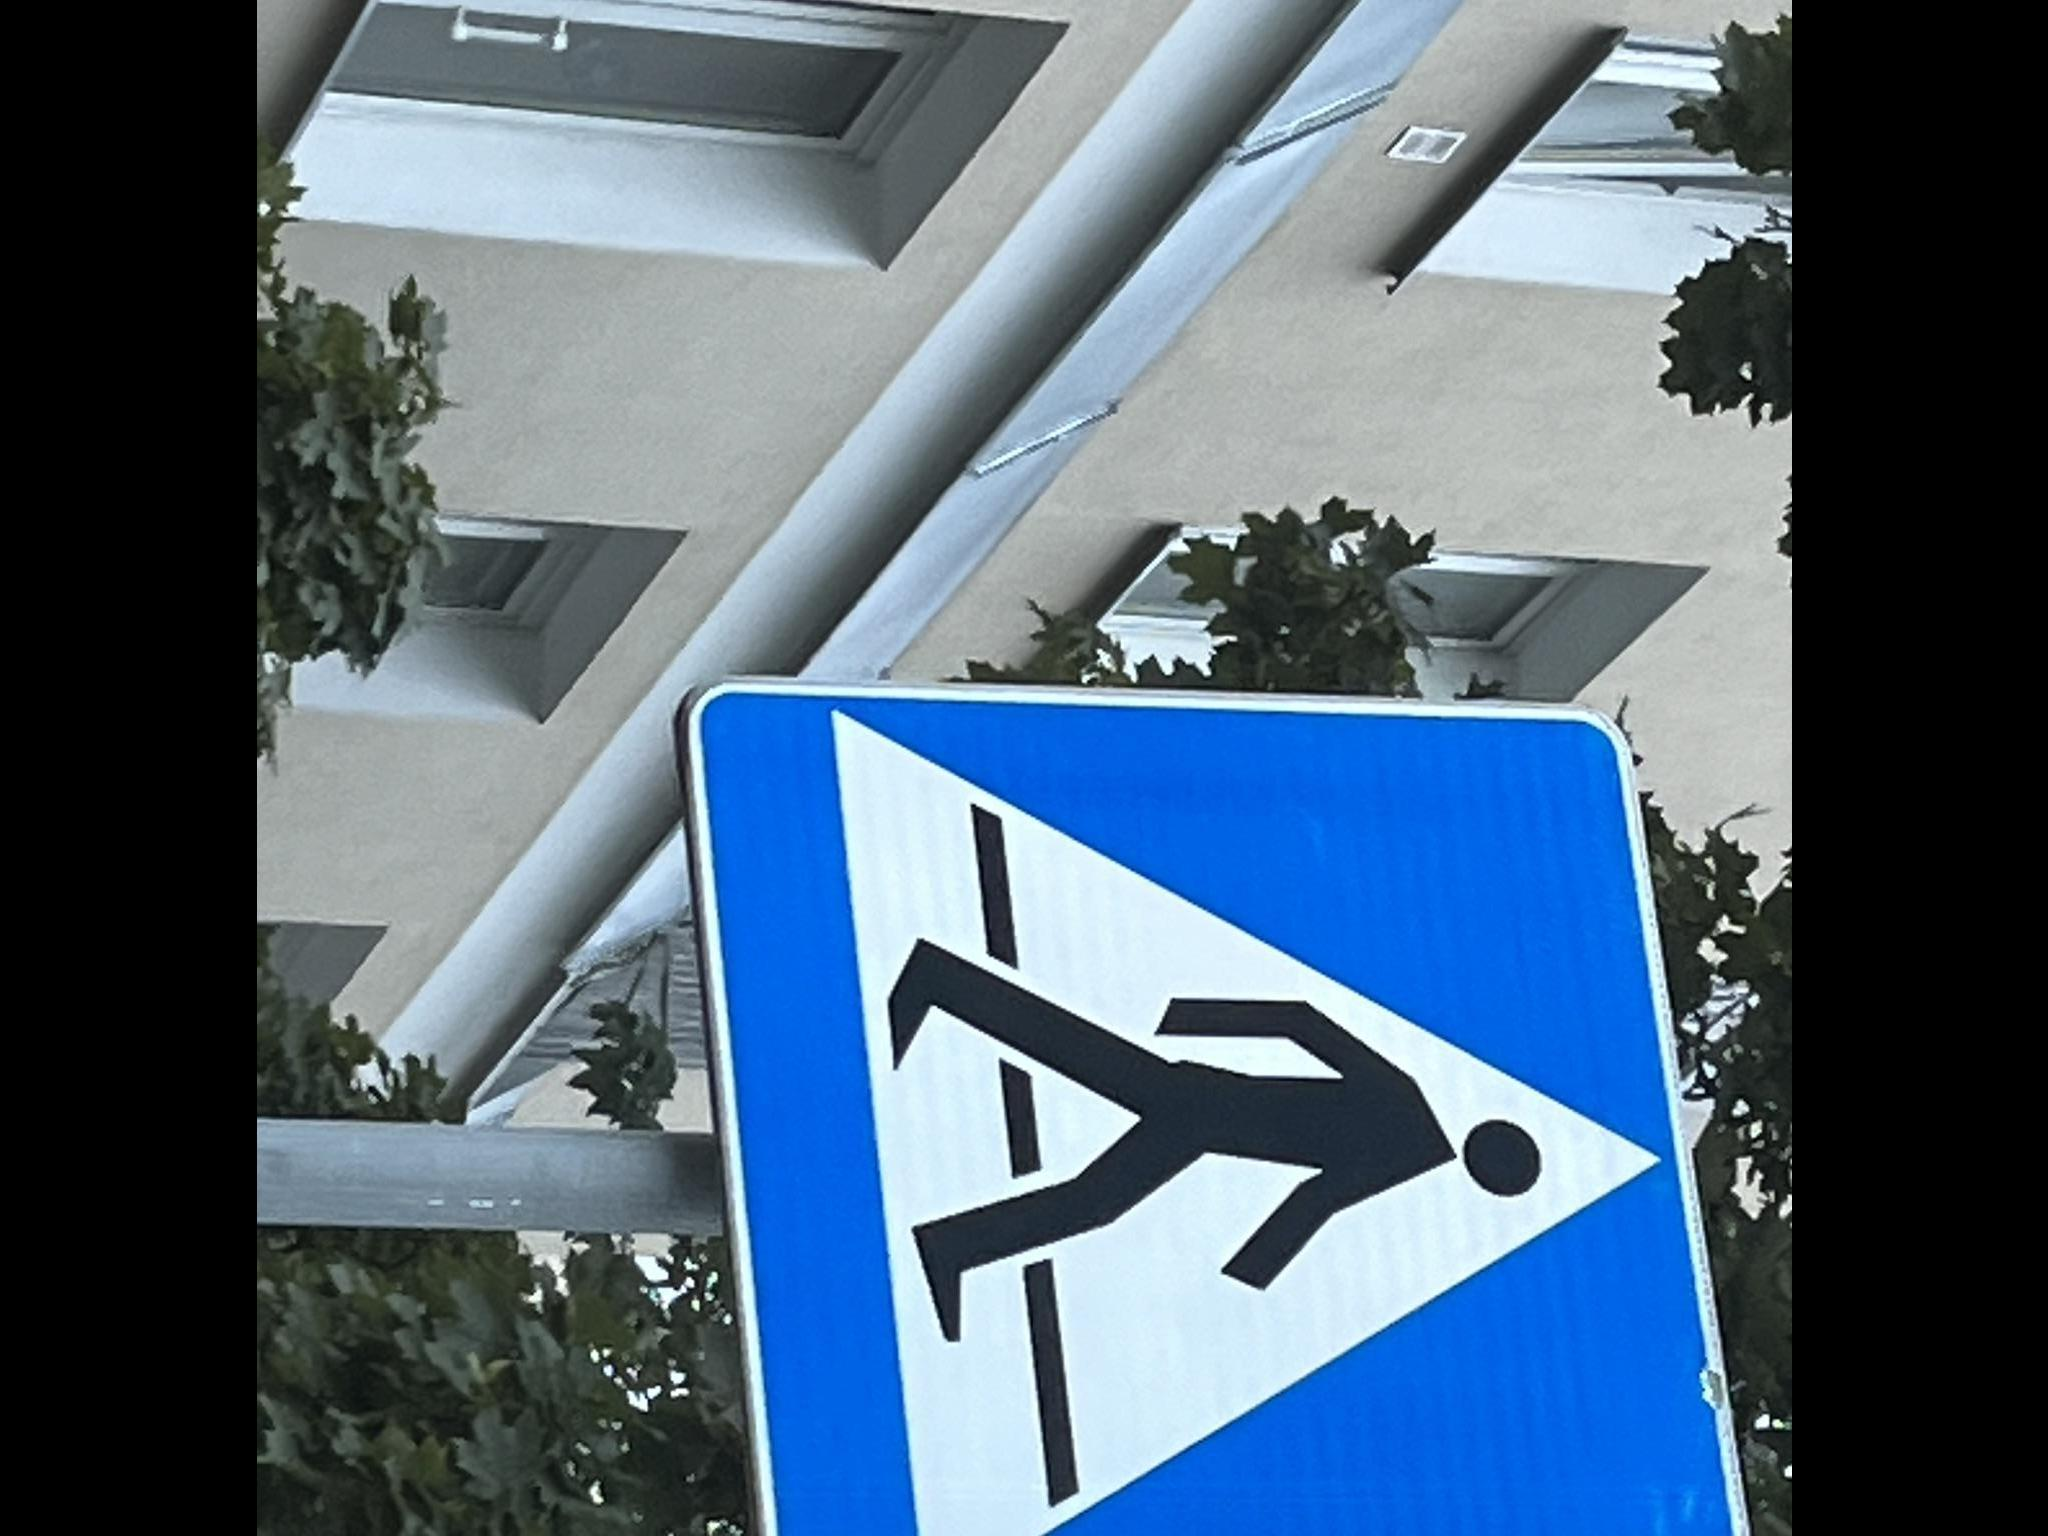information: (664, 674, 1763, 1536)
